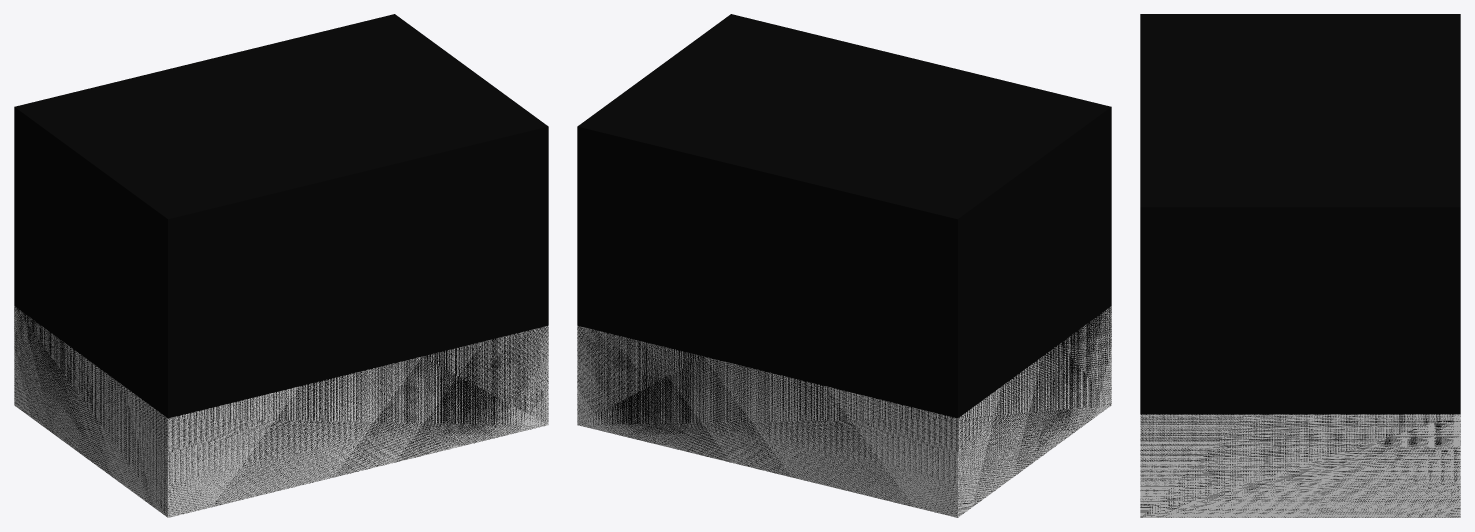
The model's file is oakDesk.glb.
3 renders of one model, left to right at view 1: azimuth 30°, elevation 25°; view 2: azimuth 150°, elevation 25°; view 3: azimuth 270°, elevation 25°, orthographic. The views are drawn at different scales.
Visible parts, largest first — view 1: mesh (×2); view 2: mesh (×2); view 3: mesh (×2).
Boxes of the visible parts, x1=… form: mesh (×2): x1=14, y1=14, x2=548, y2=517; mesh (×2): x1=577, y1=14, x2=1111, y2=517; mesh (×2): x1=1140, y1=14, x2=1460, y2=517.
Size of the model in its own units: 4 by 3 by 2.8.
2 materials, 1 textured.
